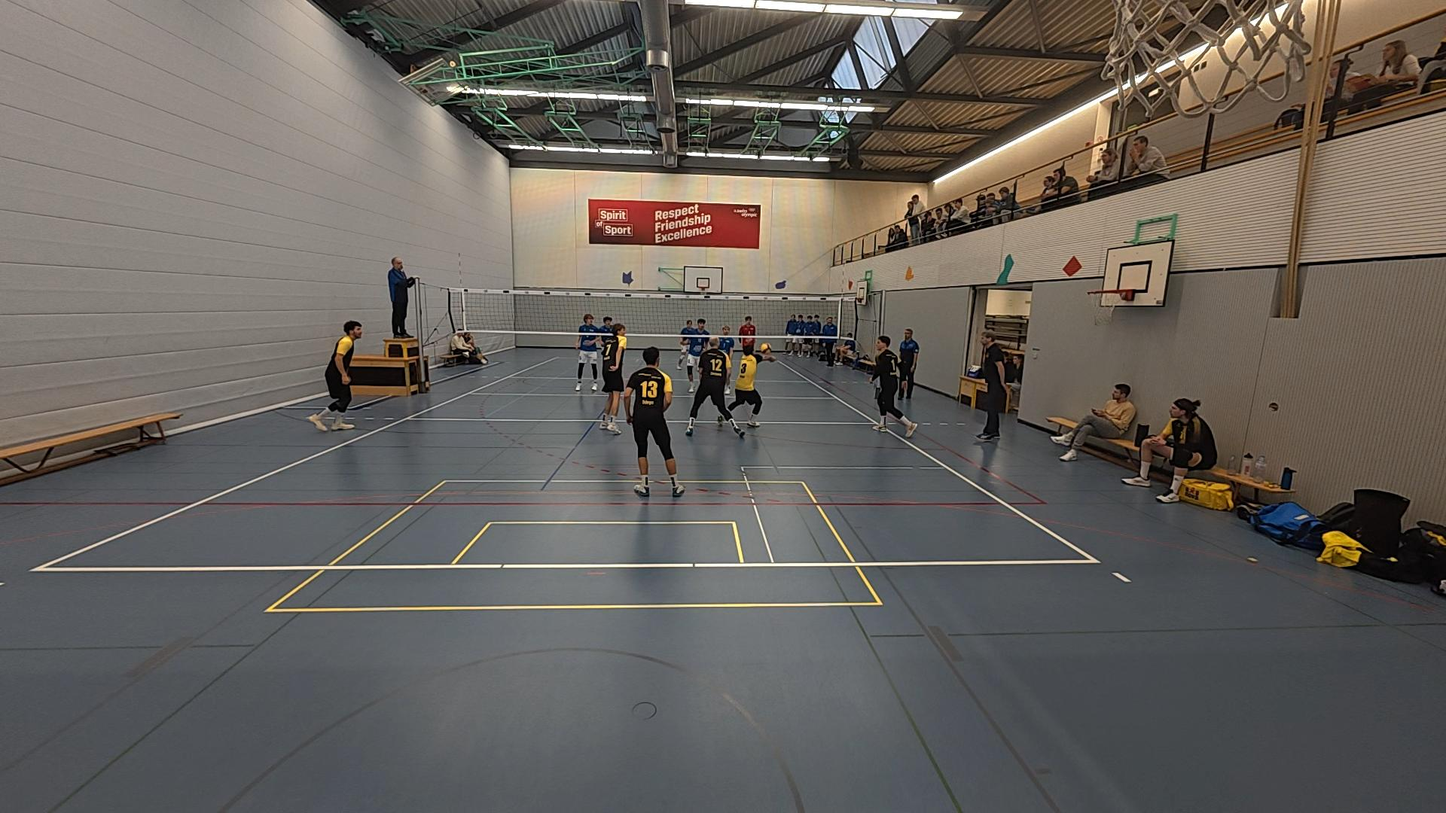Dig: (716, 340, 776, 430)
Player: (624, 346, 684, 496), (307, 321, 361, 431), (684, 333, 740, 436), (870, 337, 913, 434), (597, 320, 630, 434), (575, 312, 601, 391), (679, 318, 706, 382), (713, 326, 737, 397), (597, 317, 615, 378), (677, 317, 696, 369), (736, 314, 758, 356)
ball: (756, 341, 773, 355)
